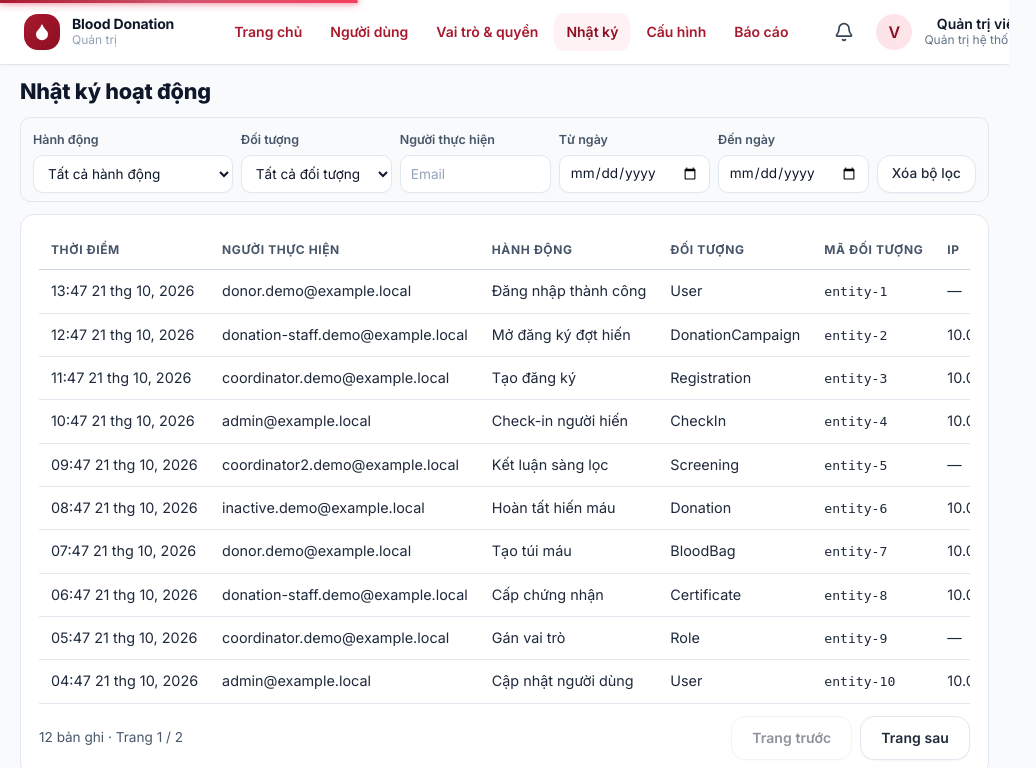
Test: Audit log › filters entries by action
Check: the text "Đăng nhập thành công" is shown, box [480,270,658,313]
Select "Đăng nhập thất bại" in the dropdown labelled "Hành động" at (133, 174), box [33,155,233,193]
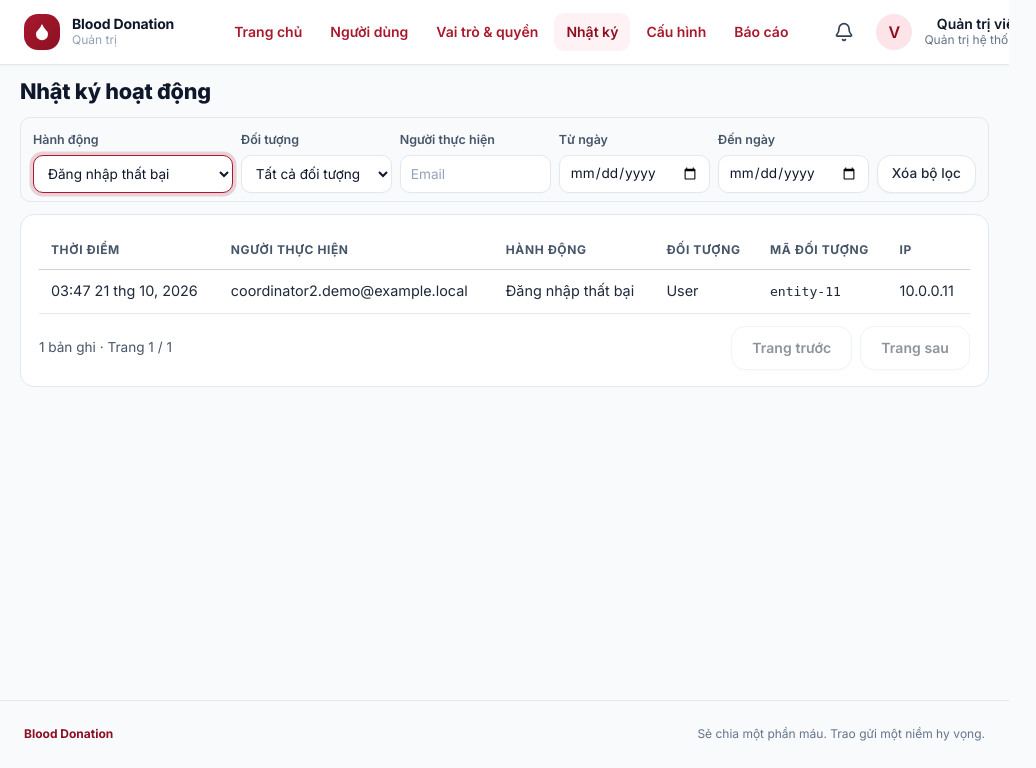
Check: the text "Đăng nhập thất bại" is shown, box [494,270,654,313]
Check: the text "Đăng nhập thành công" is gone
